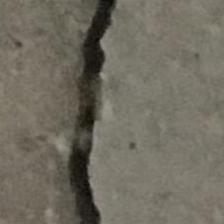Crack: (36, 0, 200, 224)
